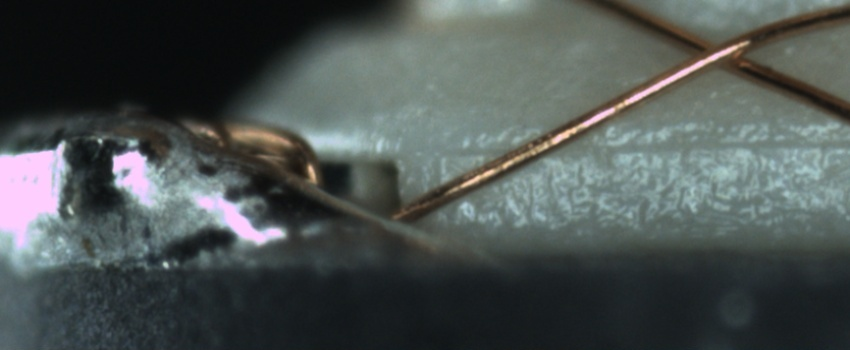CL: (664, 22, 764, 80)
DL: (436, 114, 850, 183)
TE: (174, 109, 333, 198)
